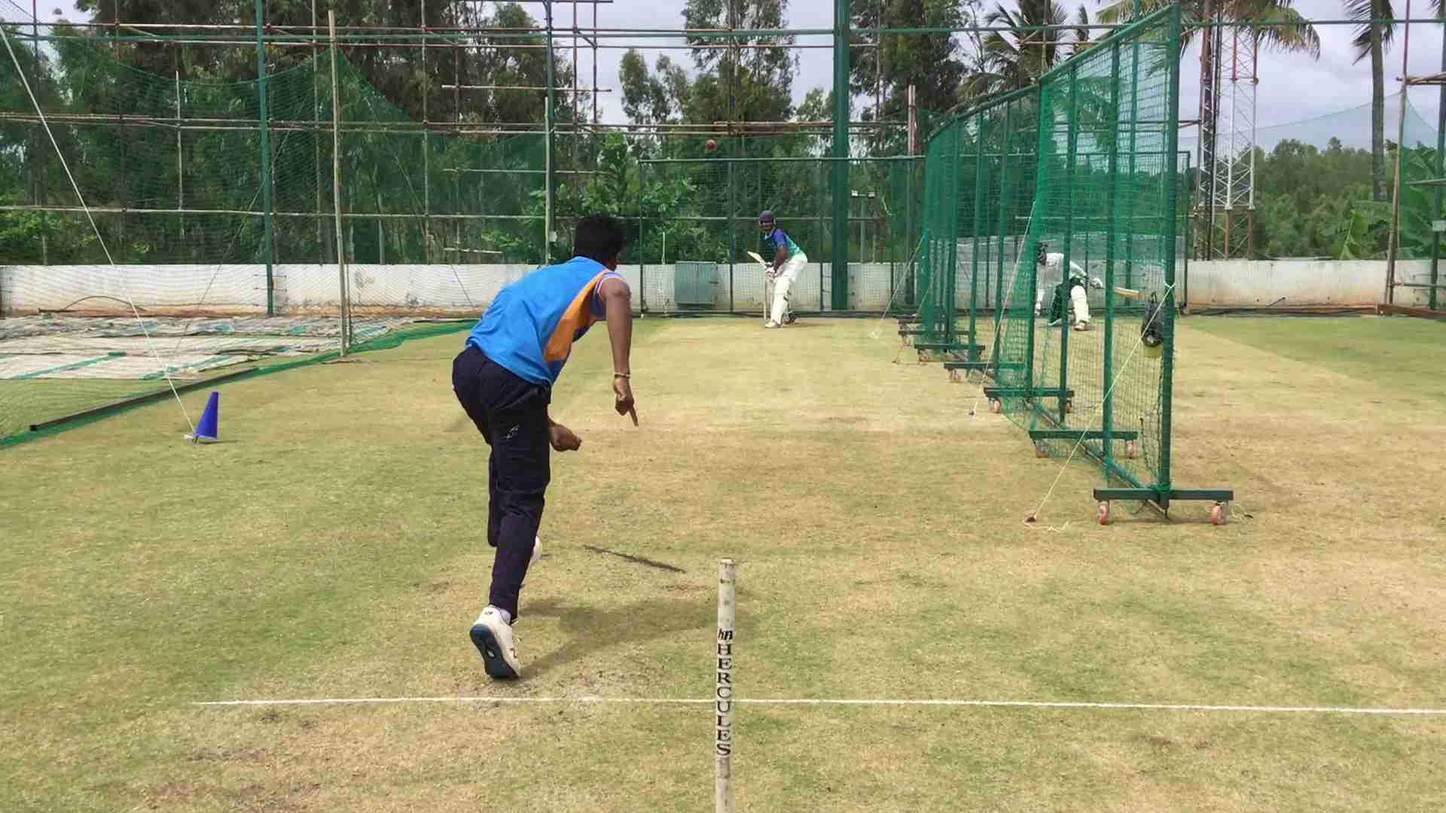batsman: (754, 208, 811, 334)
